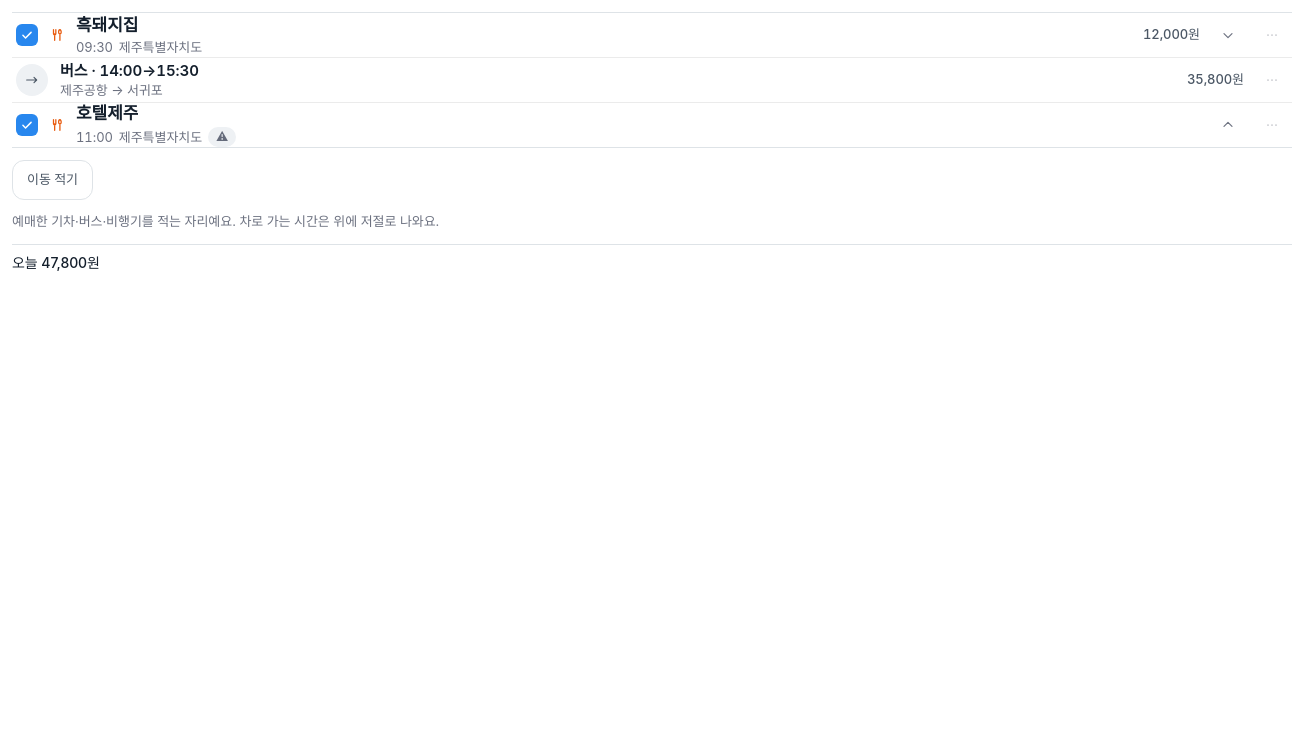
Scenario: TimelinePane — 이 자리에 대신 갈 곳 (T10-22 · 결정 #53) › 가까운 곳이 먼저 서고 거리를 함께 읽어 준다
Click the button named "흑돼지집 작업 열기".
click(1272, 35)  # box x1=1256 y1=19 x2=1288 y2=51
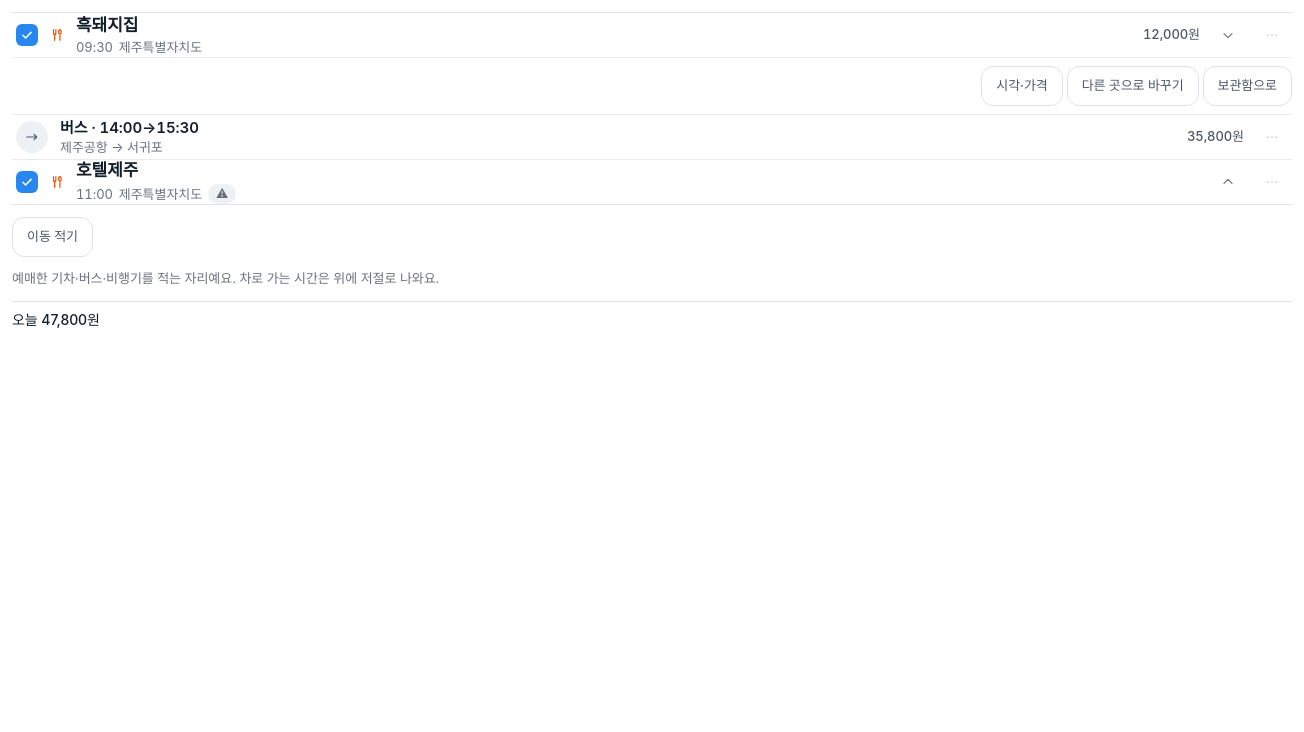
Click the button "다른 곳으로 바꾸기".
click(1133, 86)  # box x1=1067 y1=66 x2=1199 y2=106
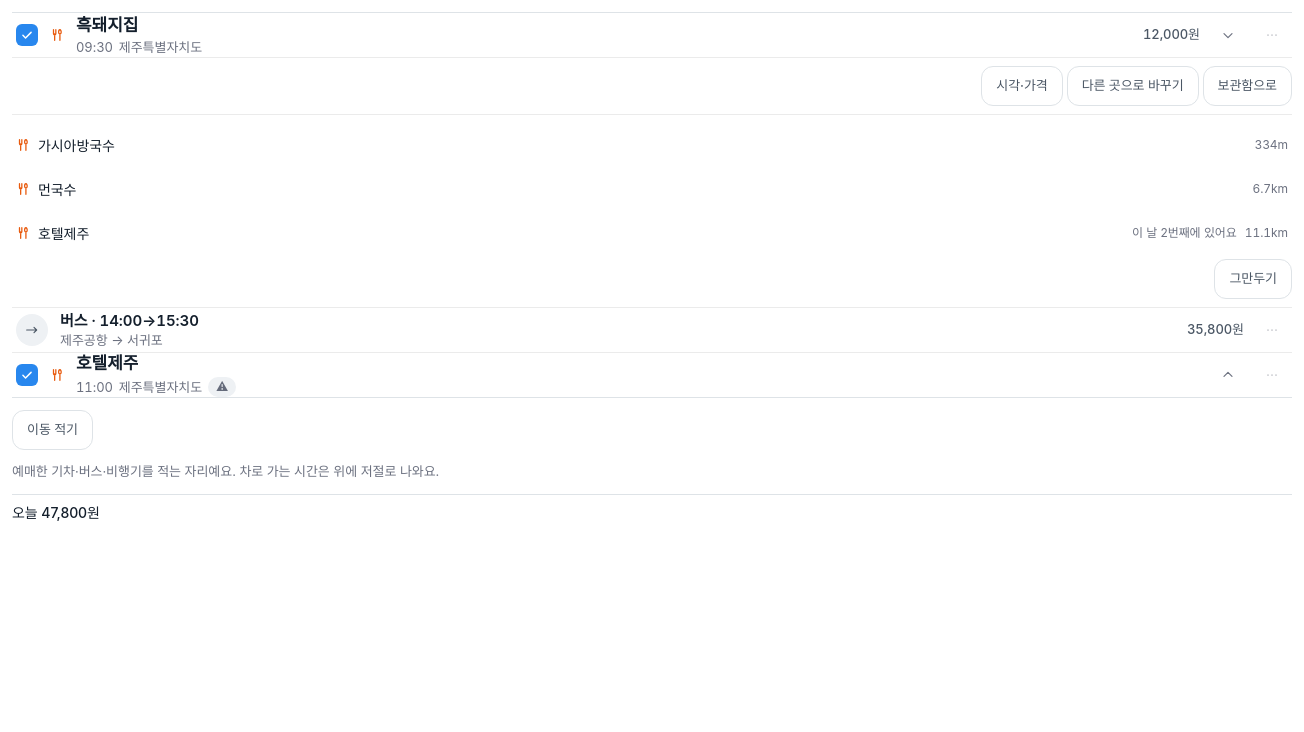
Expected: the button "가시아방국수 334m" is shown, x1=12 y1=123 x2=1292 y2=167
